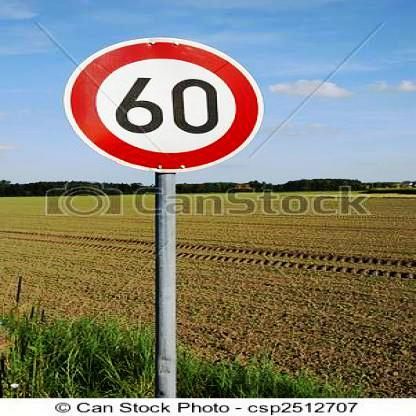Speed Limit -60-: (65, 35, 267, 173)
